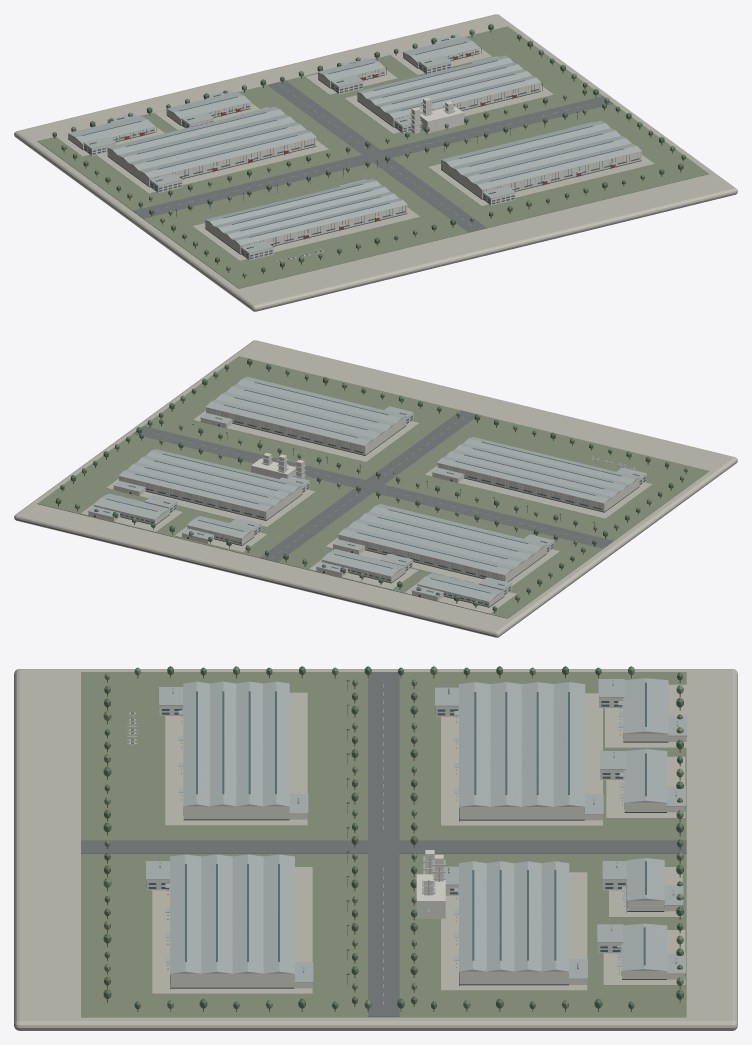
The picture shows the model from 3 angles, top to bottom: view 1: azimuth 30°, elevation 25°; view 2: azimuth 150°, elevation 25°; view 3: azimuth 270°, elevation 25°; orthographic projection. The views are drawn at different scales.
Visible parts, largest first — view 1: GH_terrain, GH_study_base, GH_mid_west_roof, GH_front_east_roof, GH_hero_roof, GH_mid_east_roof, GH_primary_road, GH_primary_road.001, GH_front_east, GH_mid_west, GH_hero, GH_mid_west_apron (+10 smaller); view 2: GH_terrain, GH_study_base, GH_mid_west_roof, GH_front_east_roof, GH_hero_roof, GH_mid_east_roof, GH_primary_road, GH_primary_road.001, GH_front_east, GH_hero, GH_mid_west, GH_mid_east (+12 smaller); view 3: GH_terrain, GH_study_base, GH_mid_west_roof, GH_front_east_roof, GH_hero_roof, GH_mid_east_roof, GH_primary_road, GH_primary_road.001, GH_hero_apron, GH_mid_west_apron, GH_front_east_apron, GH_mid_east_apron (+13 smaller).
Part boxes in pixels (x1,y1,x2,y2): GH_terrain: [37, 26, 708, 288]; GH_study_base: [14, 14, 737, 311]; GH_mid_west_roof: [107, 106, 316, 177]; GH_front_east_roof: [441, 120, 641, 189]; GH_hero_roof: [205, 178, 407, 245]; GH_mid_east_roof: [357, 55, 540, 118]; GH_primary_road: [133, 96, 613, 218]; GH_primary_road.001: [268, 80, 486, 232]; GH_front_east: [441, 151, 641, 198]; GH_mid_west: [107, 137, 316, 186]; GH_hero: [205, 205, 407, 253]; GH_mid_west_apron: [96, 140, 328, 193]; GH_terrain: [37, 356, 708, 618]; GH_study_base: [14, 340, 737, 637]; GH_mid_west_roof: [338, 504, 546, 575]; GH_front_east_roof: [206, 376, 406, 445]; GH_hero_roof: [437, 437, 639, 503]; GH_mid_east_roof: [119, 449, 302, 511]; GH_primary_road: [133, 426, 613, 548]; GH_primary_road.001: [260, 410, 476, 562]; GH_front_east: [206, 407, 406, 454]; GH_hero: [437, 463, 639, 511]; GH_mid_west: [338, 534, 546, 581]; GH_mid_east: [119, 476, 302, 520]; GH_terrain: [81, 672, 686, 1017]; GH_study_base: [14, 669, 737, 1030]; GH_mid_west_roof: [459, 682, 585, 806]; GH_front_east_roof: [170, 854, 294, 973]; GH_hero_roof: [183, 681, 289, 806]; GH_mid_east_roof: [459, 861, 569, 971]; GH_primary_road: [368, 672, 399, 1016]; GH_primary_road.001: [81, 840, 686, 853]; GH_hero_apron: [165, 692, 307, 825]; GH_mid_west_apron: [441, 693, 602, 825]; GH_front_east_apron: [152, 867, 312, 993]; GH_mid_east_apron: [441, 872, 587, 990].
Bounding box in the file's own units: 640 × 42.6 × 550.
